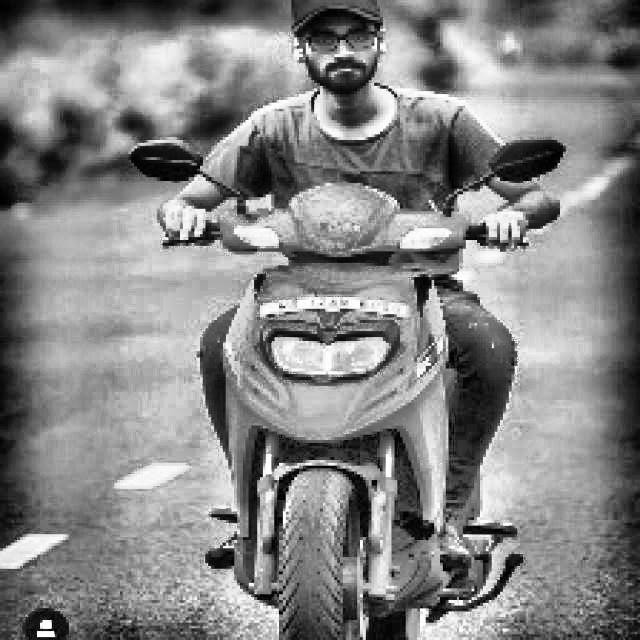motorcycle: (123, 126, 564, 640)
